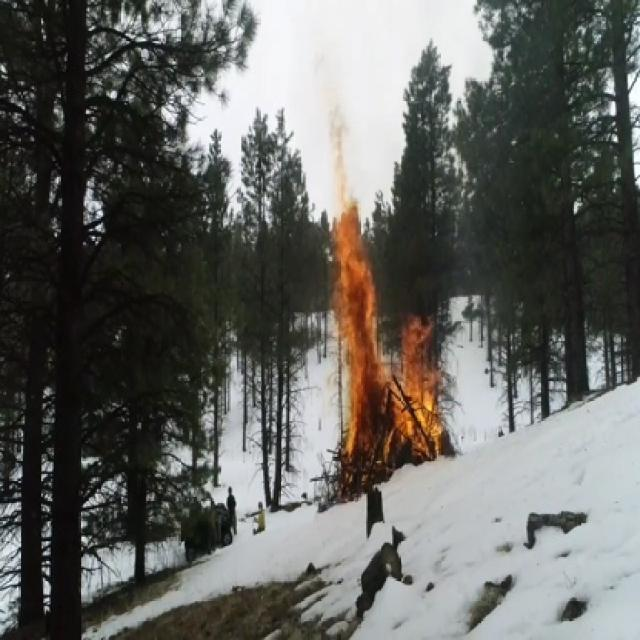Fire: (326, 129, 448, 473)
